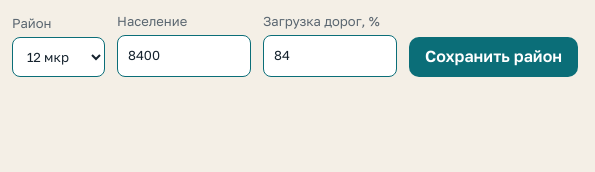
Test case: DistrictEditor › shows saved values when coming back to a district
Replace the text in the number field labelled "Загрузка дорог, %" with "70" at [330, 56], box [263,35,397,77]
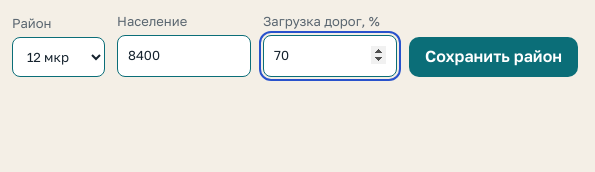
Click the button "Сохранить район" at [494, 57], box [409,37,578,77]
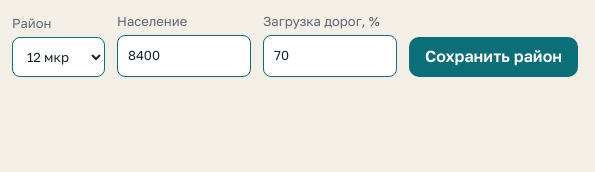
Select "12А мкр" in the dropdown labelled "Район" at [58, 57], box [12,37,105,77]
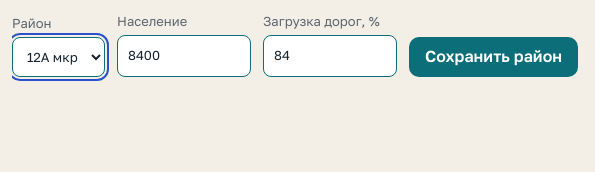
Select "12 мкр" in the dropdown labelled "Район" at [58, 57], box [12,37,105,77]
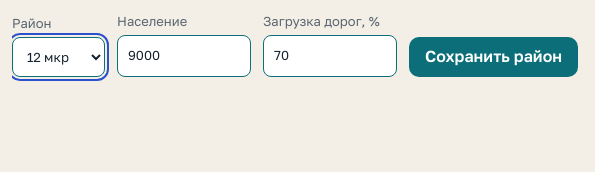
Now the number field labelled "Загрузка дорог, %" holds "70", box [263,35,397,77]
Now the number field labelled "Население" holds "9000", box [117,35,251,77]
